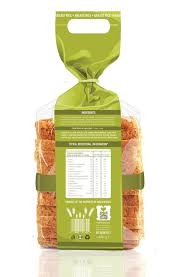bread: (34, 26, 155, 258)
